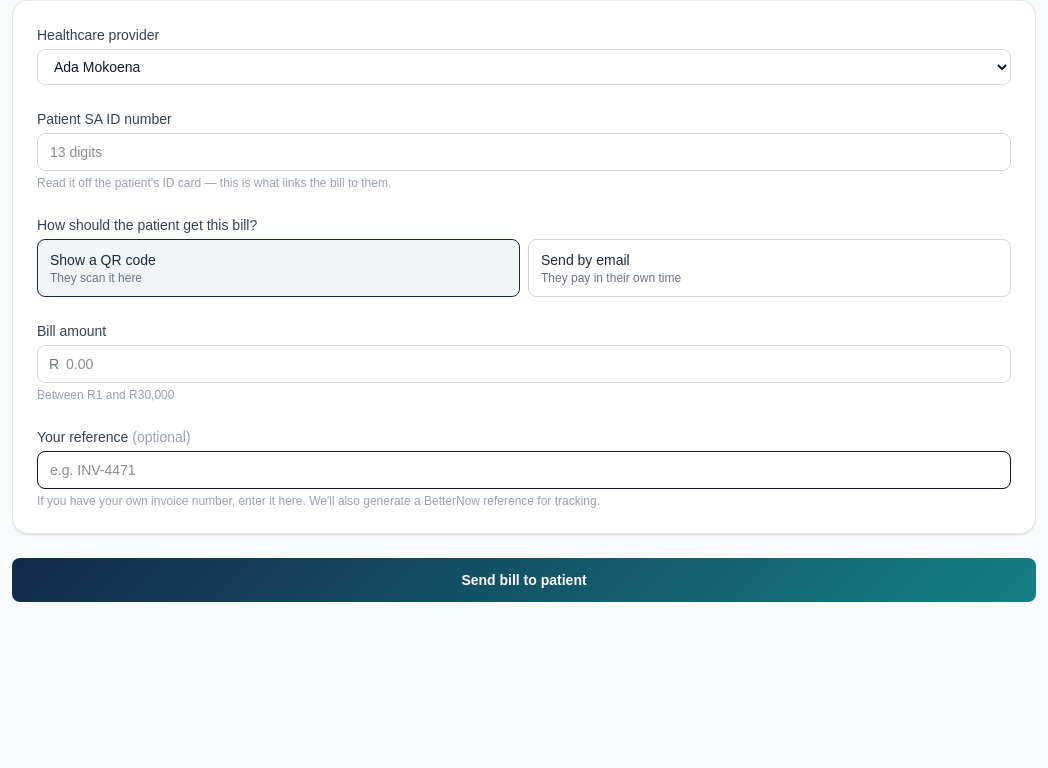
Test: bill amount validation is visible, never a silent no-op › an empty amount reports it as missing rather than out of range
Type "9001015800088" into the field with test id "bill-said-input" at [524, 152], box [37,133,1011,171]
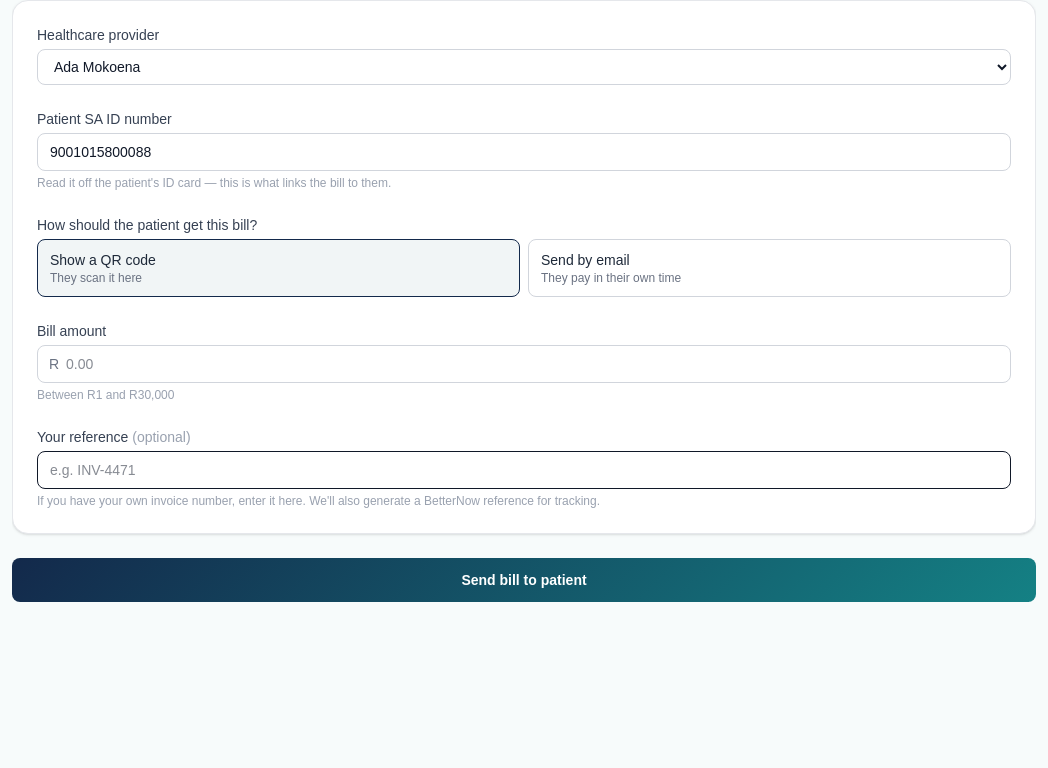
Click the button with test id "submit-bill" at [524, 580], box [12,558,1036,602]
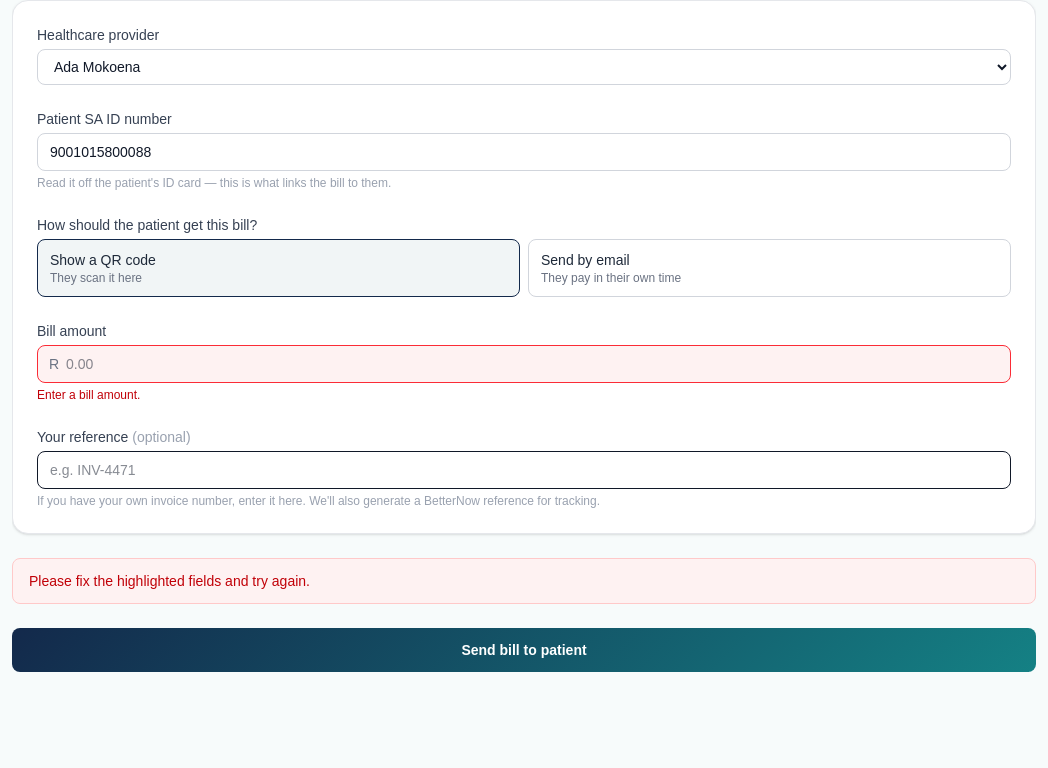
Now the message with test id "amount-error" shows "Enter a bill amount", box [37,388,140,402]
